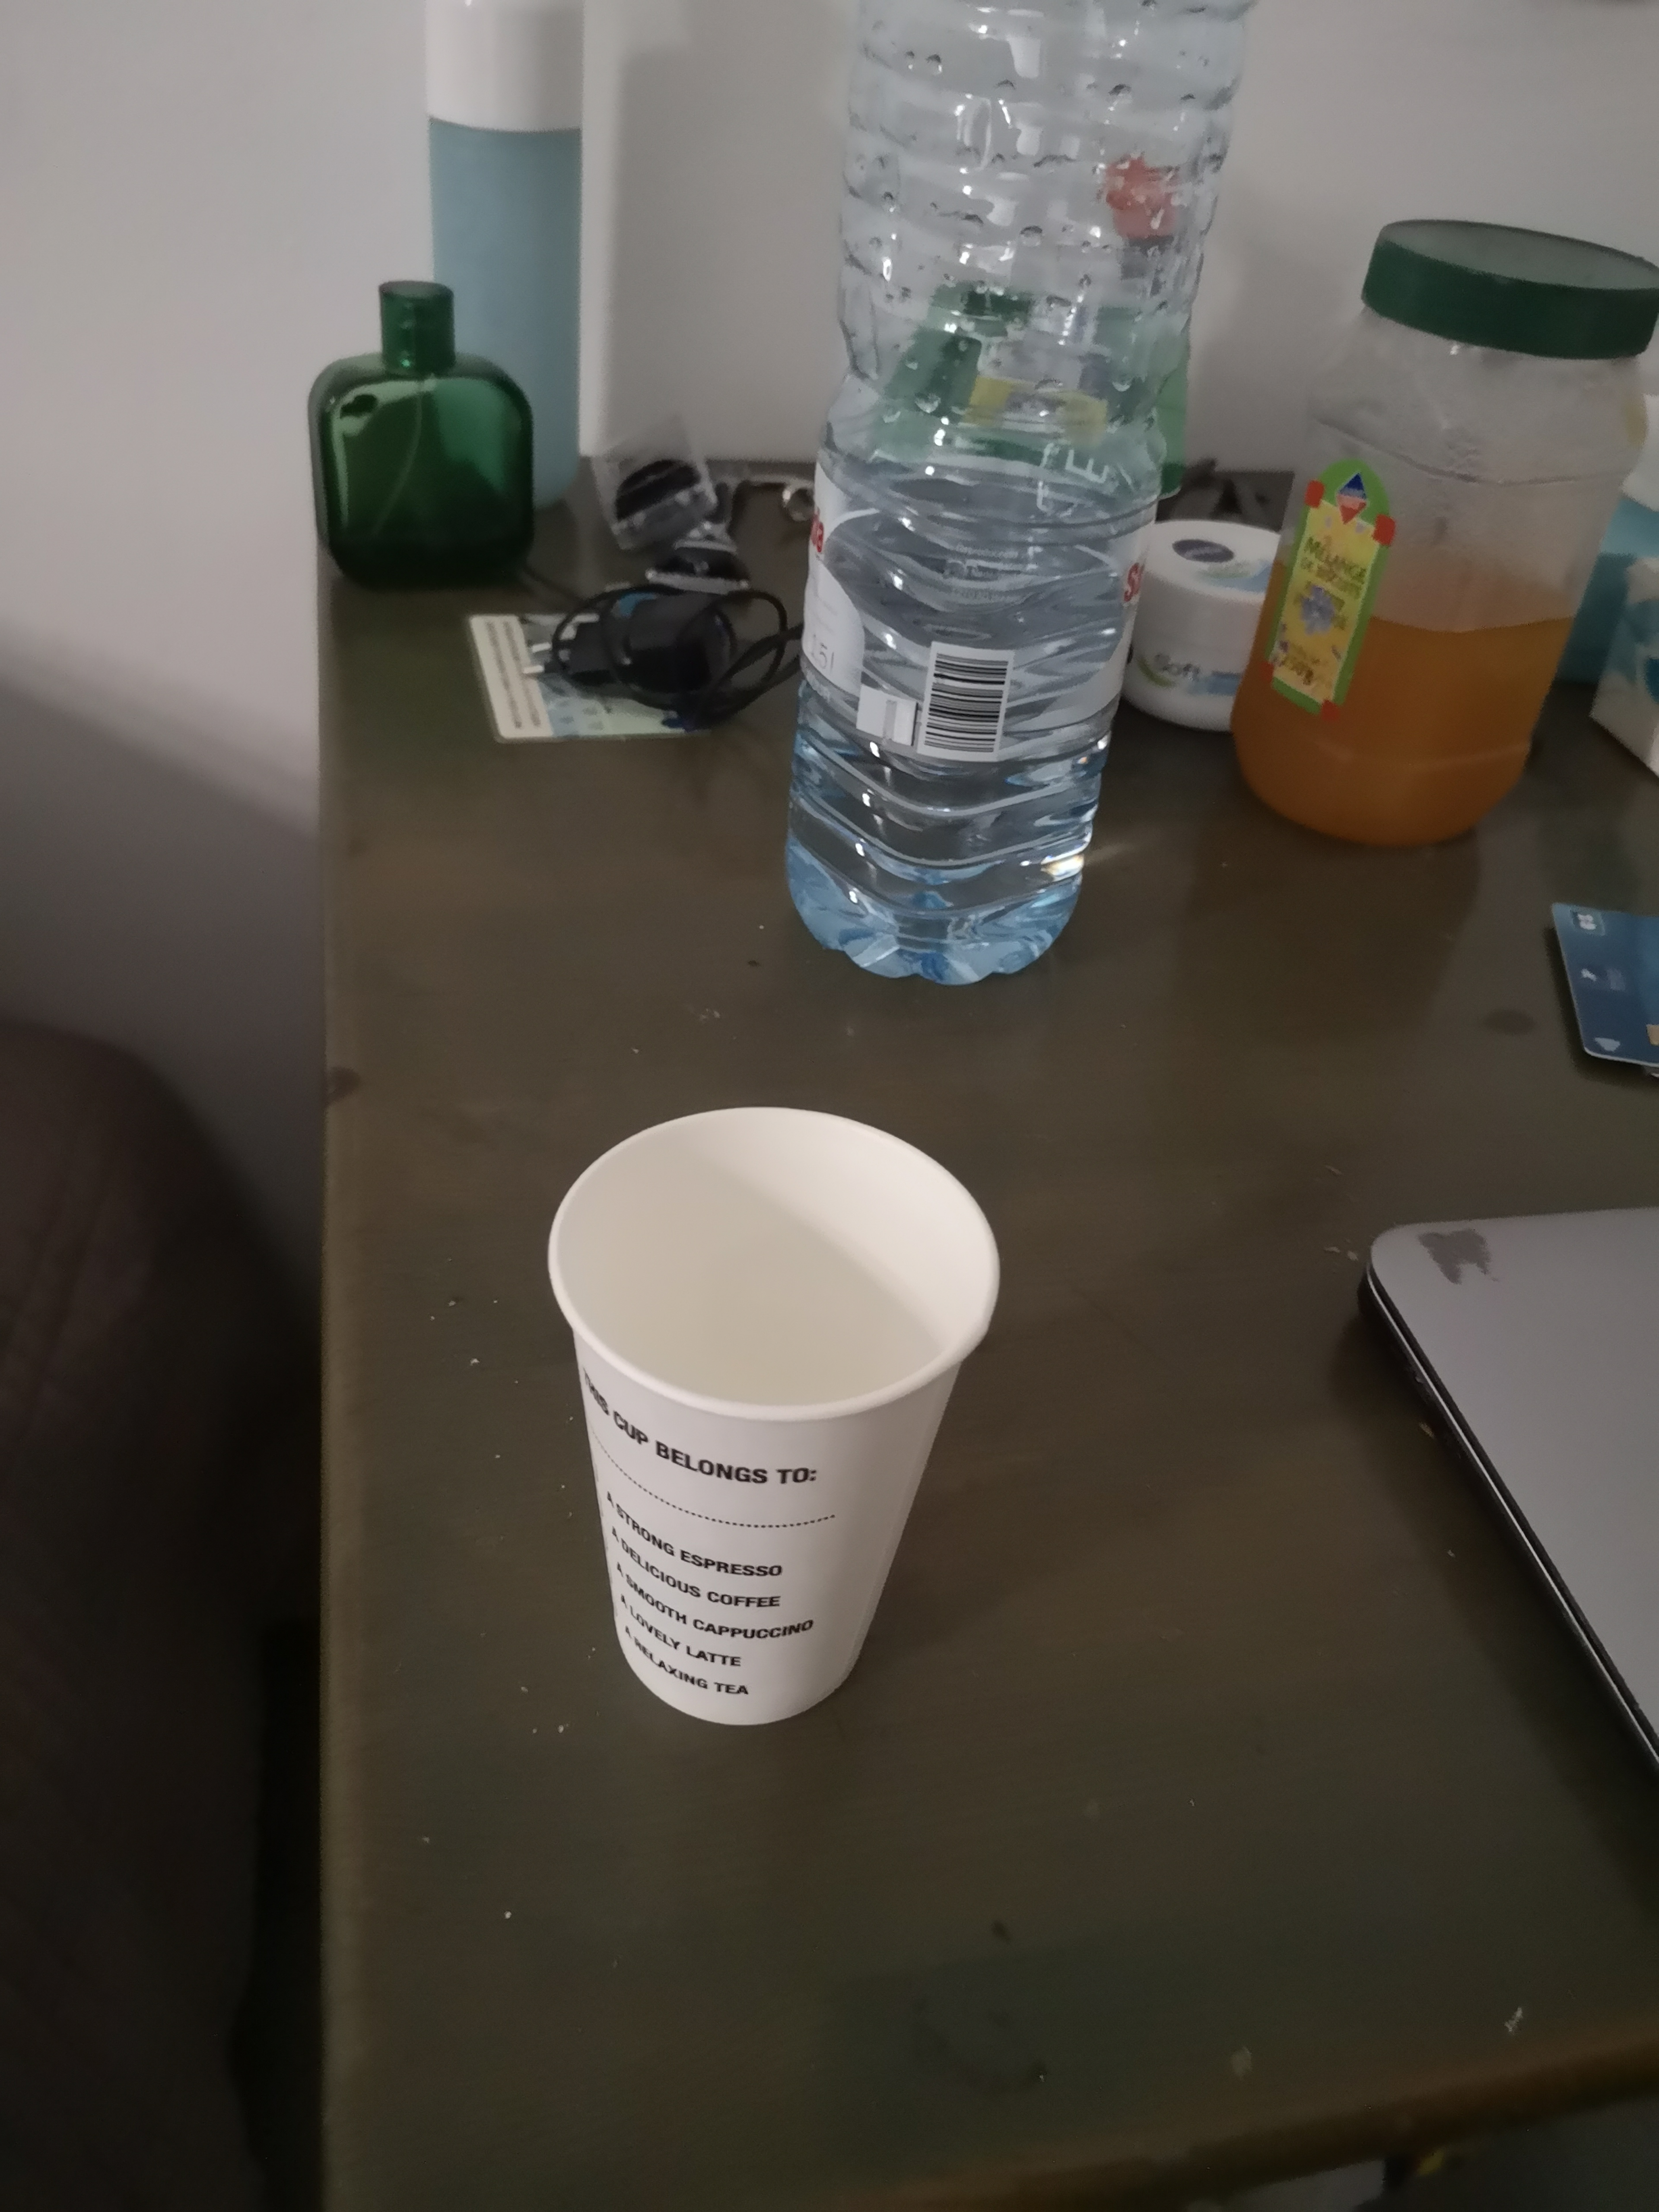cup: (518, 1061, 1053, 1747)
plastic_bottle: (737, 0, 1300, 1014)
